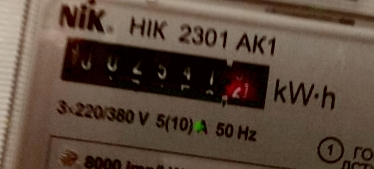0: (75, 44, 97, 72), (103, 45, 121, 74)
1: (202, 59, 219, 87)
2: (127, 49, 147, 76)
4: (179, 56, 195, 81)
5: (151, 52, 173, 82)
6: (227, 80, 245, 100)
screen: (46, 18, 287, 124)
